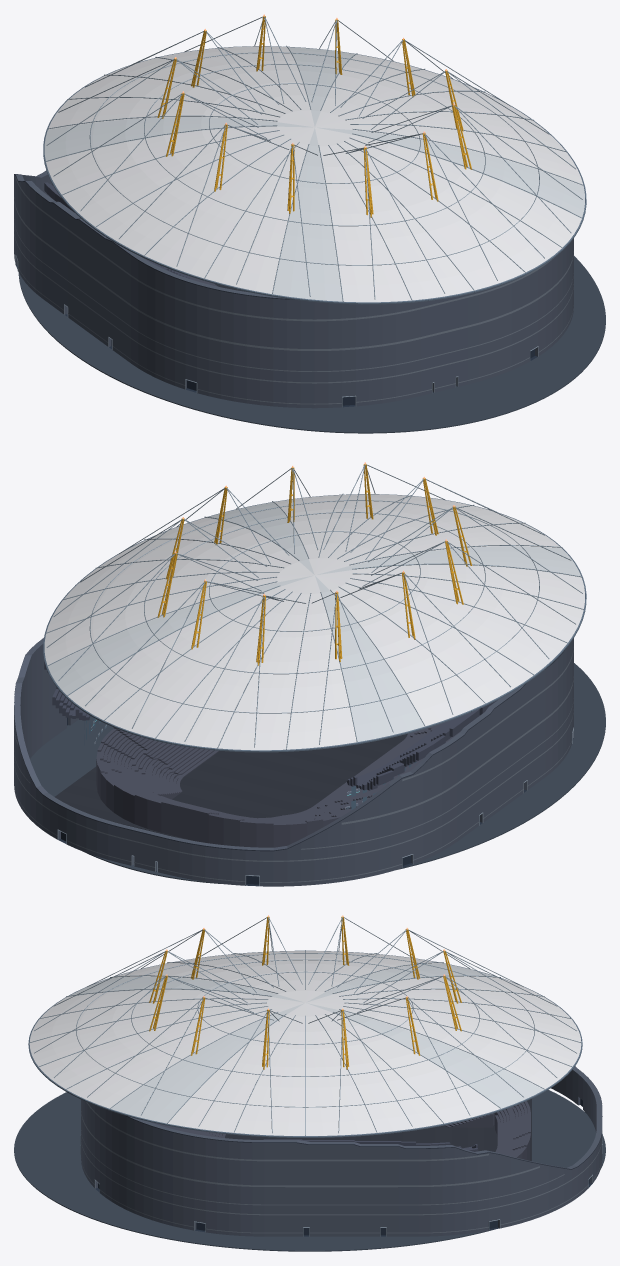
Rendered from shell.glb.
3 renders of one model, top to bottom at view 1: azimuth 30°, elevation 25°; view 2: azimuth 150°, elevation 25°; view 3: azimuth 270°, elevation 25°, orthographic. The views are drawn at different scales.
Parts seen in each view (by area): view 1: shell_roof_canopy, shell_bowl_mass_enclosure, shell_field_floor_apron, shell_roof_canopy_gore, shell_roof_truss_cables, shell_bowl_mass_cladding, shell_roof_truss_masts, shell_roof_truss_perimeter; view 2: shell_roof_canopy, shell_bowl_mass_enclosure, shell_roof_canopy_gore, shell_roof_truss_cables, shell_bowl_mass_lower, shell_field_floor_apron, shell_field_floor, shell_field_floor_panels, shell_roof_truss_masts, shell_bowl_mass_cladding, shell_bowl_mass_upper, shell_roof_truss_perimeter (+1 smaller); view 3: shell_roof_canopy, shell_bowl_mass_enclosure, shell_field_floor_apron, shell_roof_canopy_gore, shell_roof_truss_cables, shell_bowl_mass_cladding, shell_roof_truss_masts, shell_bowl_mass_lower, shell_roof_truss_perimeter, shell_field_floor, shell_field_floor_panels, shell_bowl_mass_trim (+1 smaller).
Part boxes in pixels (x1=…): shell_roof_canopy: x1=46, y1=46, x2=583, y2=302; shell_bowl_mass_enclosure: x1=14, y1=170, x2=573, y2=408; shell_field_floor_apron: x1=18, y1=256, x2=605, y2=433; shell_roof_canopy_gore: x1=44, y1=47, x2=584, y2=301; shell_roof_truss_cables: x1=45, y1=16, x2=583, y2=301; shell_bowl_mass_cladding: x1=14, y1=177, x2=573, y2=404; shell_roof_truss_masts: x1=157, y1=16, x2=471, y2=217; shell_roof_truss_perimeter: x1=43, y1=46, x2=586, y2=304; shell_roof_canopy: x1=44, y1=494, x2=584, y2=750; shell_bowl_mass_enclosure: x1=14, y1=638, x2=573, y2=886; shell_roof_canopy_gore: x1=48, y1=502, x2=581, y2=742; shell_roof_truss_cables: x1=45, y1=464, x2=584, y2=749; shell_bowl_mass_lower: x1=96, y1=723, x2=460, y2=847; shell_field_floor_apron: x1=30, y1=663, x2=605, y2=883; shell_field_floor: x1=59, y1=737, x2=403, y2=840; shell_field_floor_panels: x1=55, y1=733, x2=407, y2=816; shell_roof_truss_masts: x1=157, y1=464, x2=472, y2=665; shell_bowl_mass_cladding: x1=14, y1=647, x2=573, y2=882; shell_bowl_mass_upper: x1=44, y1=662, x2=497, y2=790; shell_roof_truss_perimeter: x1=43, y1=494, x2=586, y2=752; shell_roof_canopy: x1=29, y1=951, x2=581, y2=1135; shell_bowl_mass_enclosure: x1=81, y1=1066, x2=602, y2=1236; shell_field_floor_apron: x1=14, y1=1090, x2=605, y2=1251; shell_roof_canopy_gore: x1=67, y1=963, x2=543, y2=1123; shell_roof_truss_cables: x1=29, y1=917, x2=581, y2=1135; shell_bowl_mass_cladding: x1=81, y1=1102, x2=602, y2=1233; shell_roof_truss_masts: x1=149, y1=916, x2=461, y2=1069; shell_bowl_mass_lower: x1=159, y1=1101, x2=530, y2=1160; shell_roof_truss_perimeter: x1=28, y1=950, x2=582, y2=1137; shell_field_floor: x1=227, y1=1098, x2=531, y2=1161; shell_field_floor_panels: x1=225, y1=1125, x2=483, y2=1151; shell_bowl_mass_trim: x1=125, y1=1066, x2=602, y2=1169.
Size of the model in its own units: 136 by 59.03 by 168.
